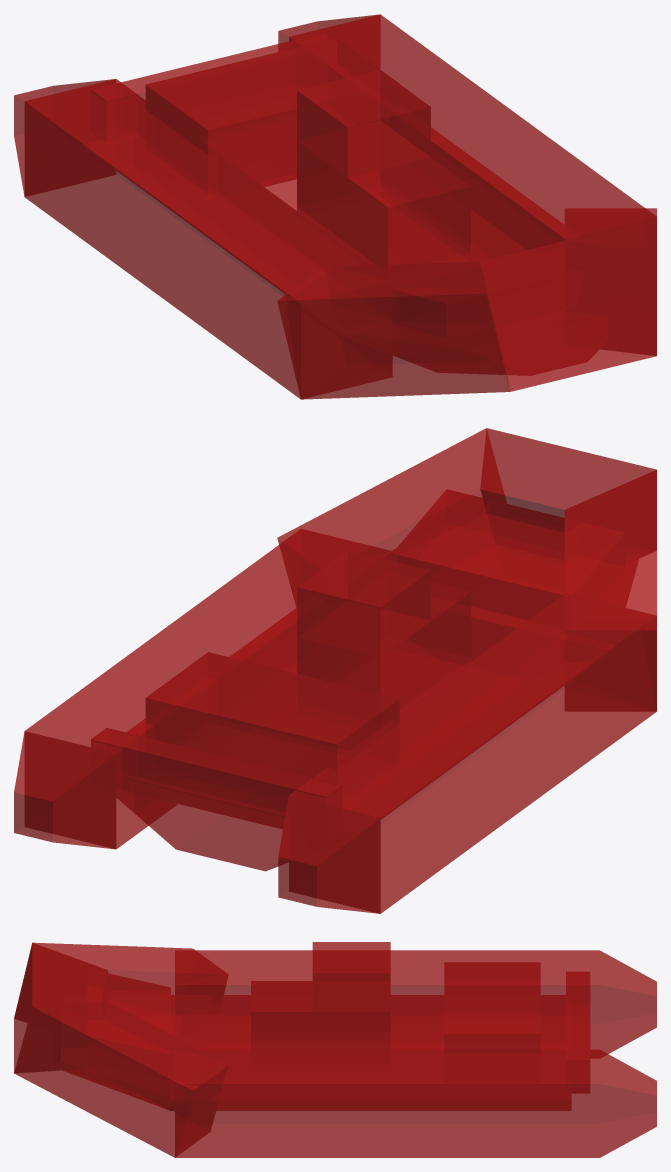
File: SM_Veh_TenderBoat_01_Collision.fbx
3 renders of one model, top to bottom at view 1: azimuth 30°, elevation 25°; view 2: azimuth 150°, elevation 25°; view 3: azimuth 270°, elevation 25°, orthographic. The views are drawn at different scales.
Parts seen in each view (by area): view 1: SM_Veh_TenderBoat_01_Collision; view 2: SM_Veh_TenderBoat_01_Collision; view 3: SM_Veh_TenderBoat_01_Collision.
Part boxes in pixels (<box>): SM_Veh_TenderBoat_01_Collision: <box>14,14,656,399</box>; SM_Veh_TenderBoat_01_Collision: <box>14,428,656,913</box>; SM_Veh_TenderBoat_01_Collision: <box>14,942,656,1157</box>.
Bounding box in the file's own units: 244 × 109 × 466.
